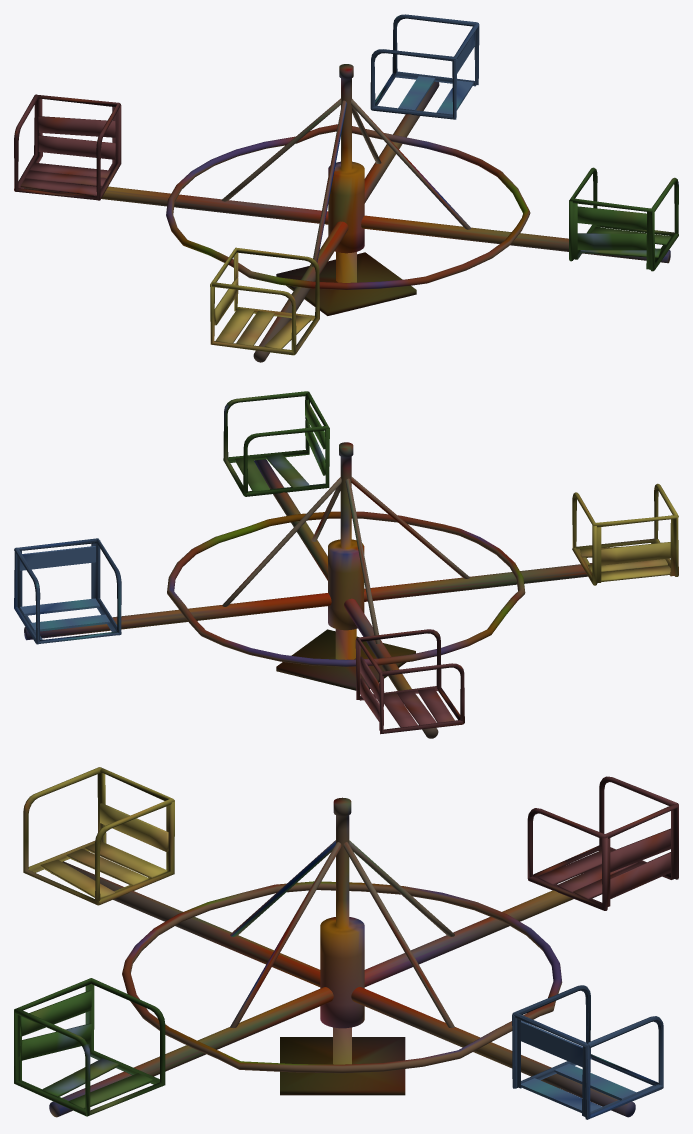
Rendered from Karusel.fbx.
3 views of the same model, one above another, from view 1: azimuth 30°, elevation 25°; view 2: azimuth 150°, elevation 25°; view 3: azimuth 270°, elevation 25° (orthographic). The views are drawn at different scales.
Visible parts, largest first — view 1: Cube.691; view 2: Cube.691; view 3: Cube.691.
Boxes of the visible parts, left/top/right/bottom form: Cube.691: left=14, top=14, right=678, bottom=362; Cube.691: left=14, top=391, right=678, bottom=738; Cube.691: left=14, top=767, right=678, bottom=1119.
Bounding box in the file's own units: 8.85 × 8.94 × 3.97.
